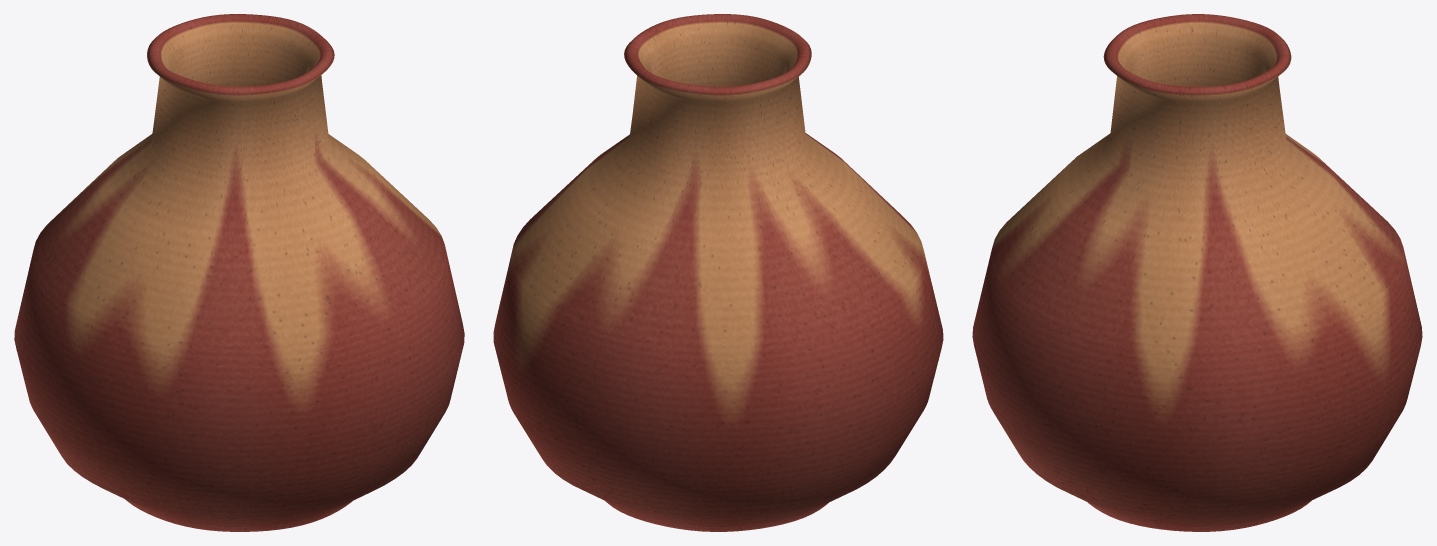
File: B07B8VJBCL.glb
3 renders of one model, left to right at view 1: azimuth 30°, elevation 25°; view 2: azimuth 150°, elevation 25°; view 3: azimuth 270°, elevation 25°, orthographic.
Visible parts, largest first — view 1: bottle 1; view 2: bottle 1; view 3: bottle 1.
Part boxes in pixels (left/top/right/bottom): bottle 1: left=14, top=14, right=464, bottom=531; bottle 1: left=493, top=14, right=943, bottom=531; bottle 1: left=972, top=14, right=1422, bottom=531.
Size of the model in its own units: 0.96 by 1.02 by 0.96.
2 materials, 1 textured.
